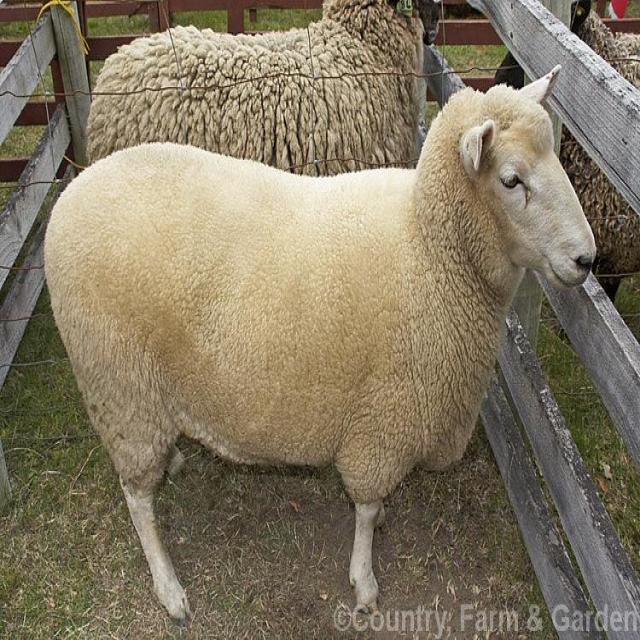Sheep: (41, 76, 596, 628), (82, 0, 439, 175)
